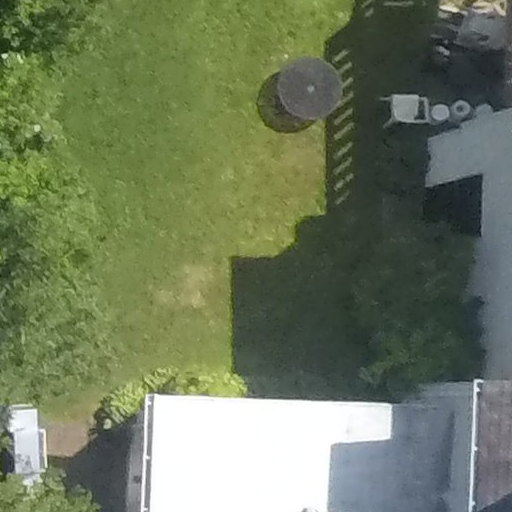chair: (379, 84, 437, 135)
container: (450, 97, 471, 123)
table: (270, 50, 352, 128), (429, 99, 448, 130)
